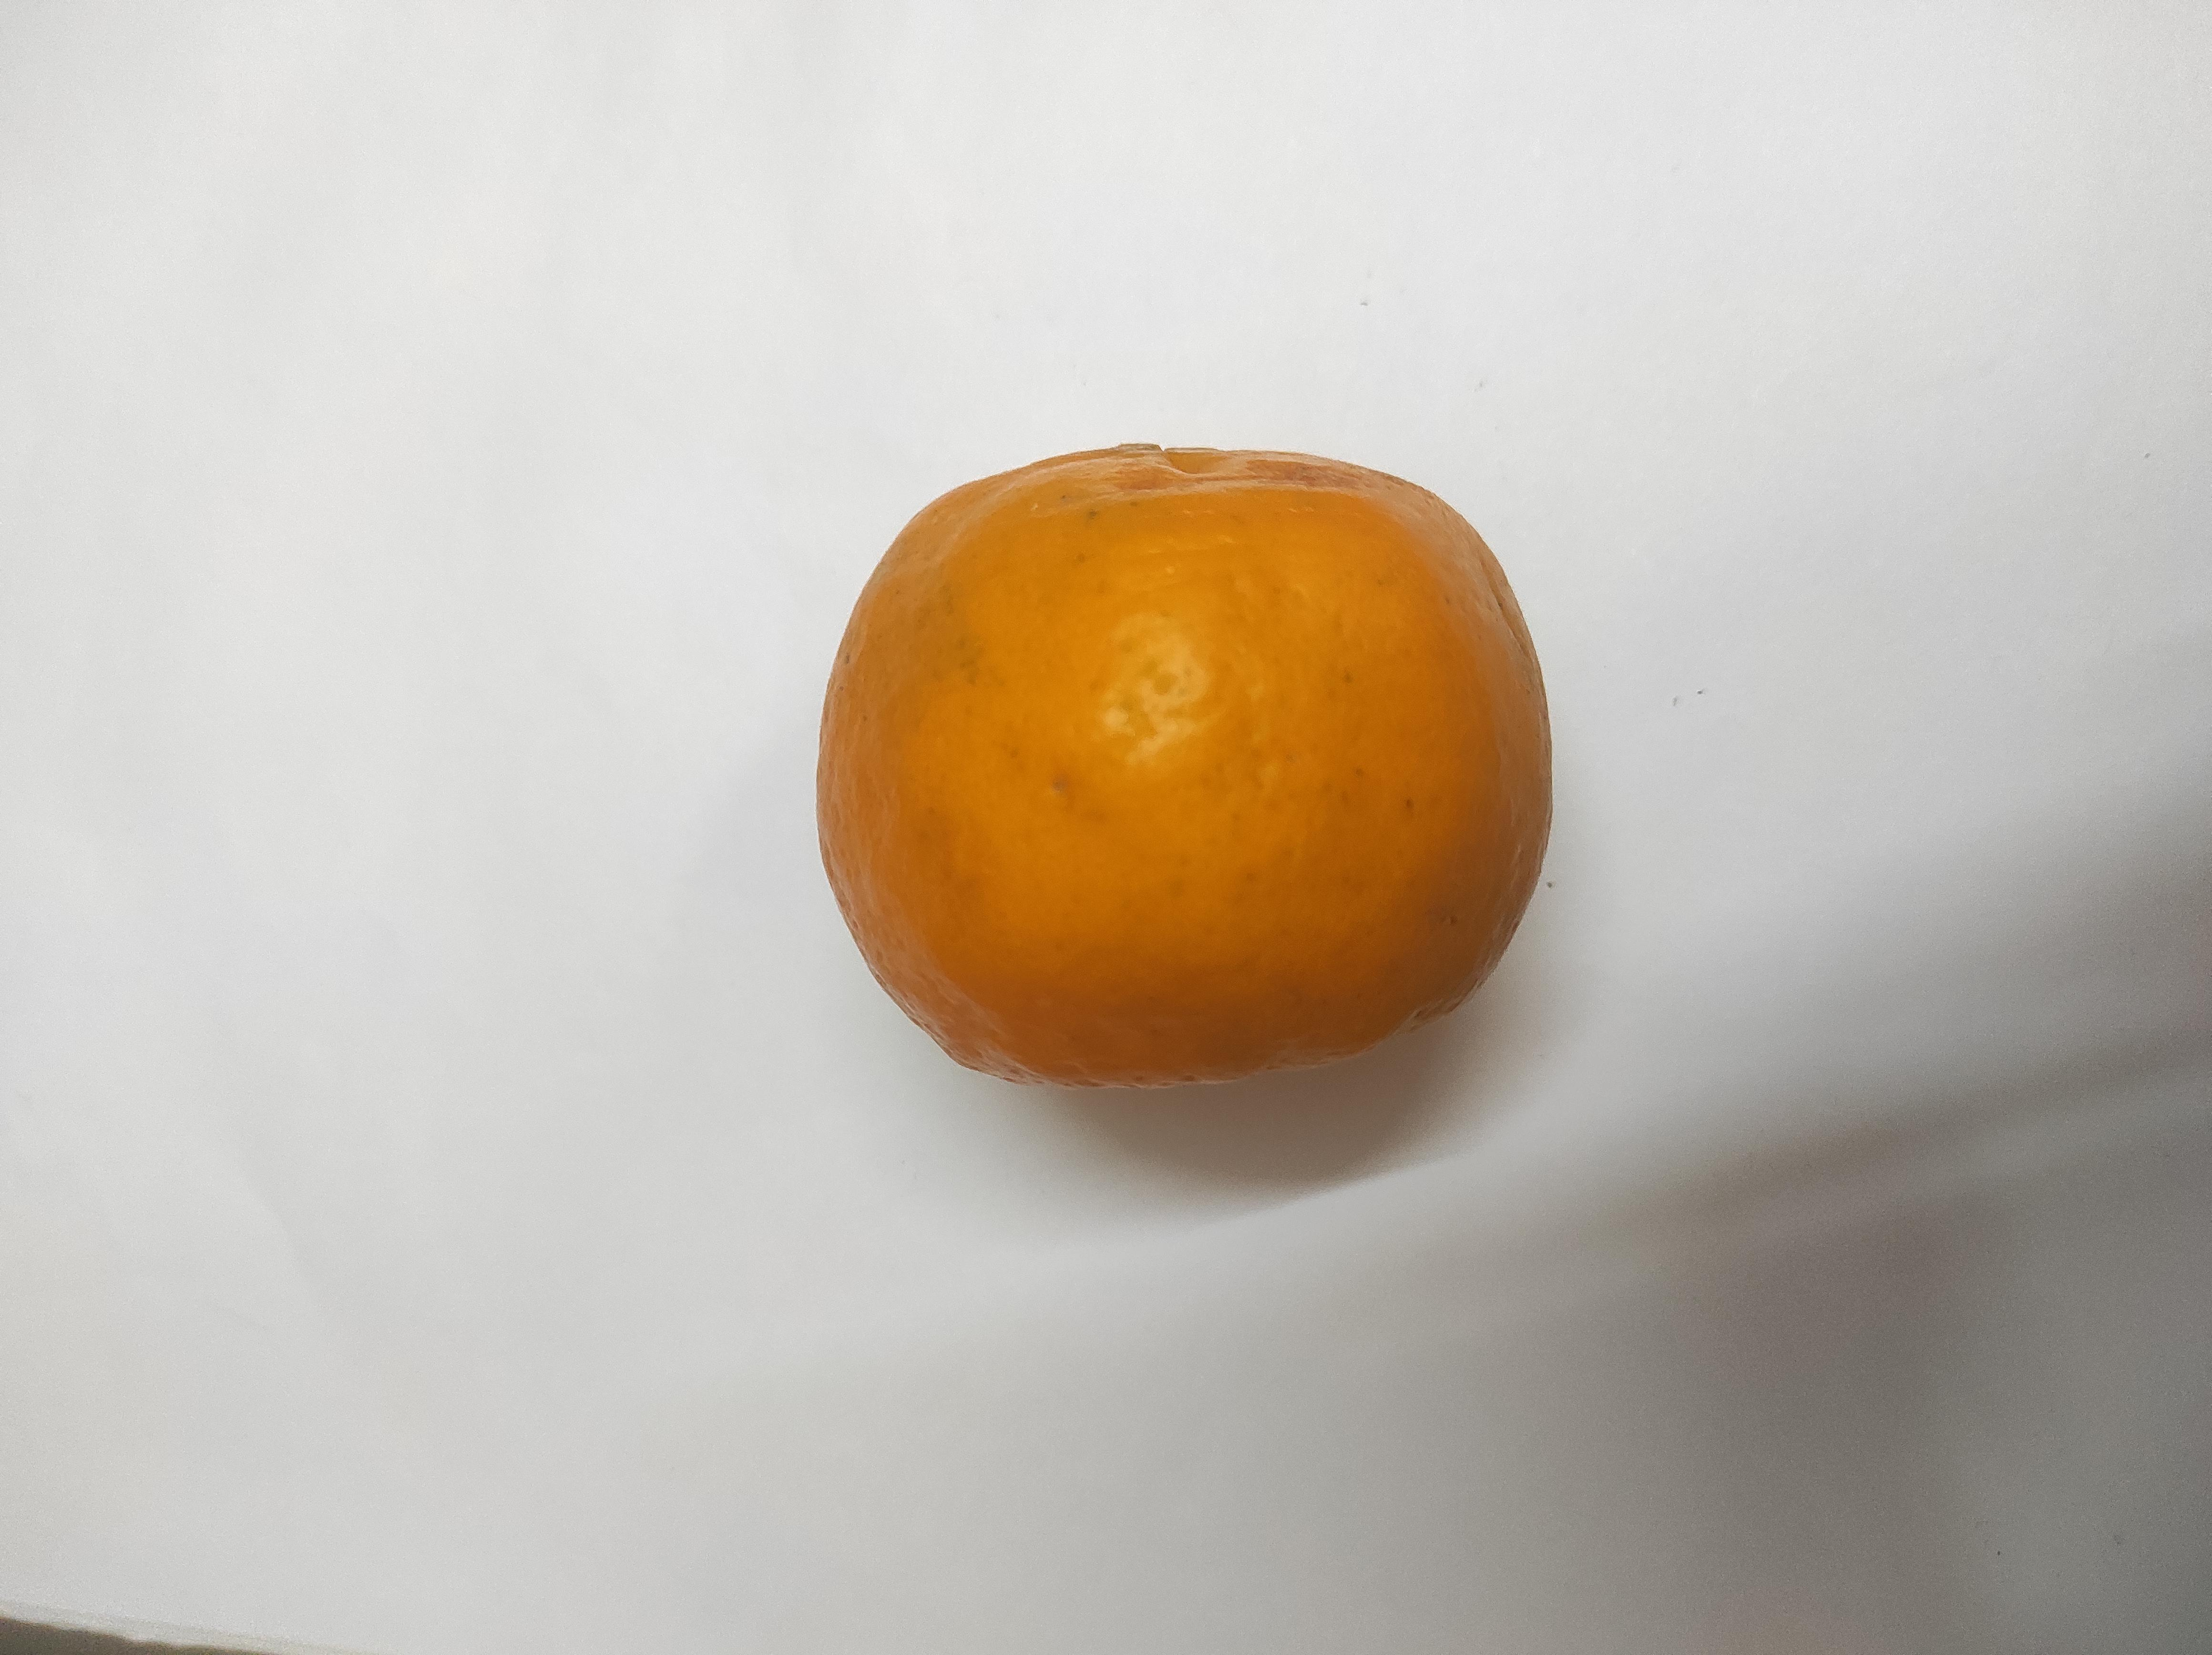Ripe: (739, 617, 1605, 1153)
